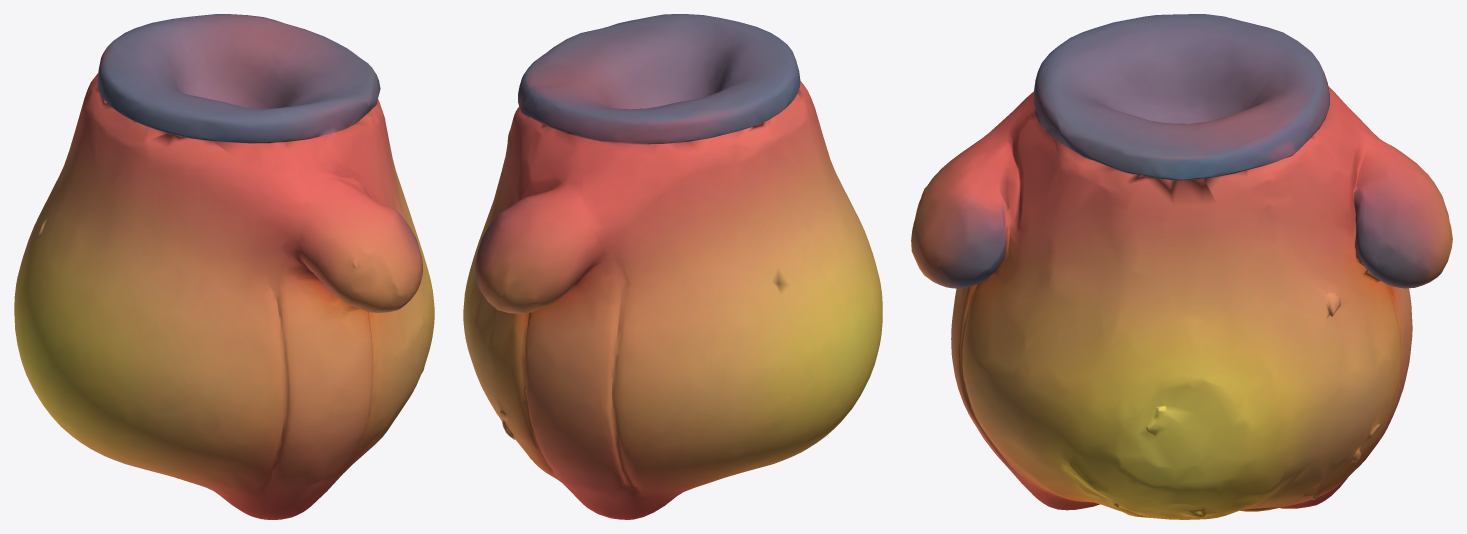
The model's file is body.glb.
3 views of the same model, side by side, from view 1: azimuth 30°, elevation 25°; view 2: azimuth 150°, elevation 25°; view 3: azimuth 270°, elevation 25° (orthographic). The views are drawn at different scales.
Visible parts, largest first — view 1: tripo_node_bd218368-de2c-4e5c-a3b6-fbd8cb898926; view 2: tripo_node_bd218368-de2c-4e5c-a3b6-fbd8cb898926; view 3: tripo_node_bd218368-de2c-4e5c-a3b6-fbd8cb898926.
Part boxes in pixels (x1,y1,x2,y2): tripo_node_bd218368-de2c-4e5c-a3b6-fbd8cb898926: (14,14,434,519); tripo_node_bd218368-de2c-4e5c-a3b6-fbd8cb898926: (463,14,882,519); tripo_node_bd218368-de2c-4e5c-a3b6-fbd8cb898926: (911,14,1452,519).
Bounding box in the file's own units: 0.8261 × 0.8848 × 1.
1 material, 1 textured.
